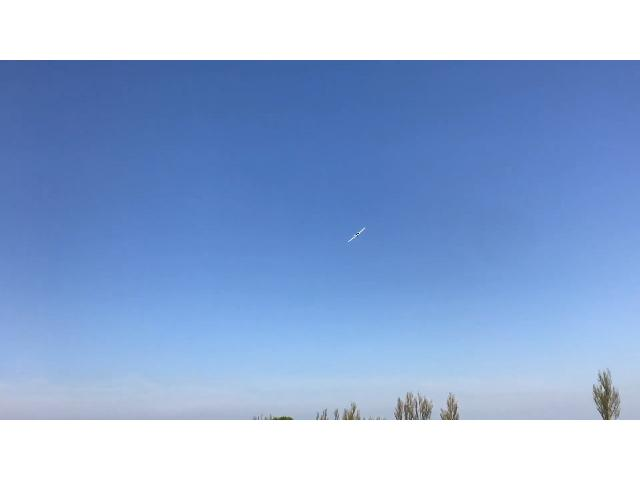Anti-Drone: (341, 219, 371, 247)
